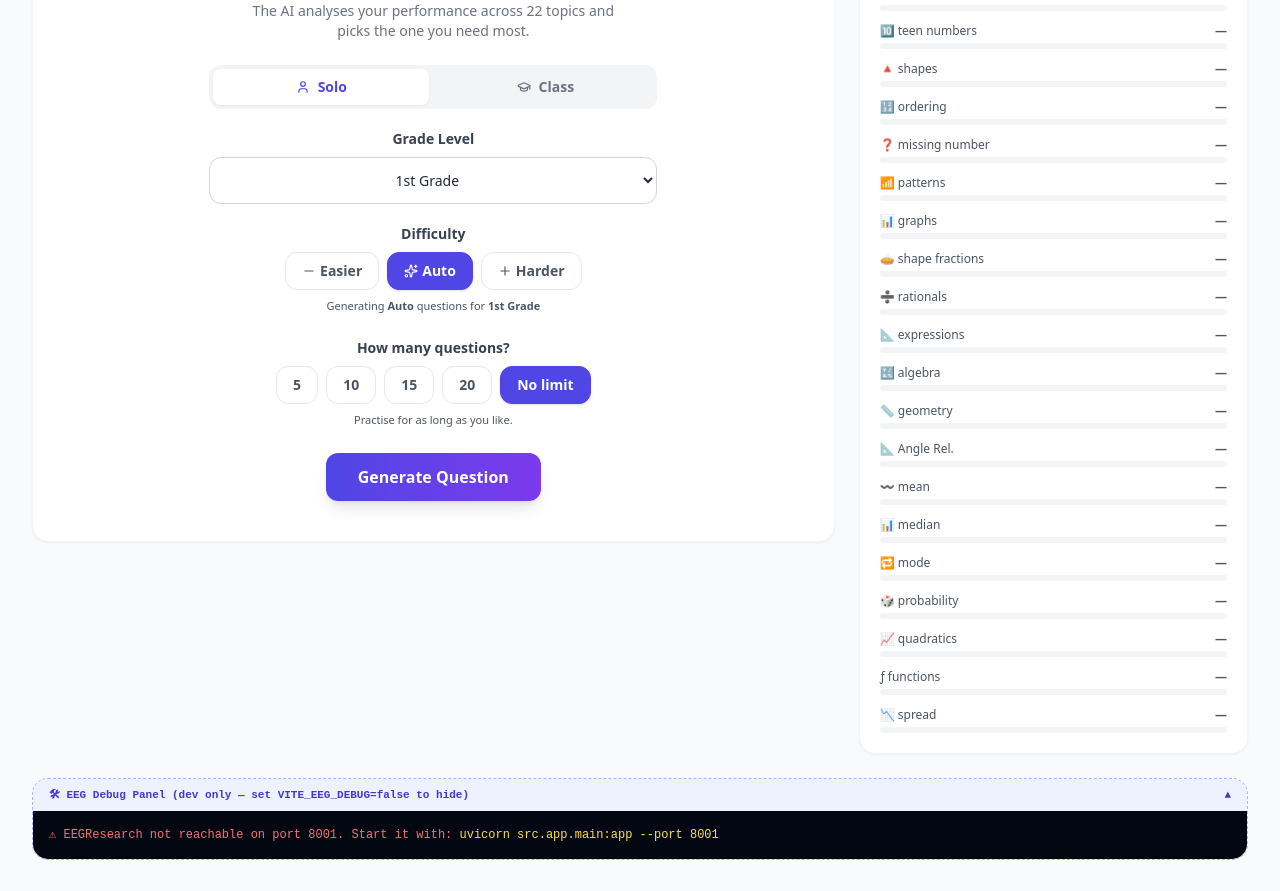
Test: claims nothing for the camera before the sidecar has answered
This screenshot has width=1280, height=891.
(page scrolled)
Click the button "Generate Question": (433, 476) [326,452,541,500]
(page scrolled)
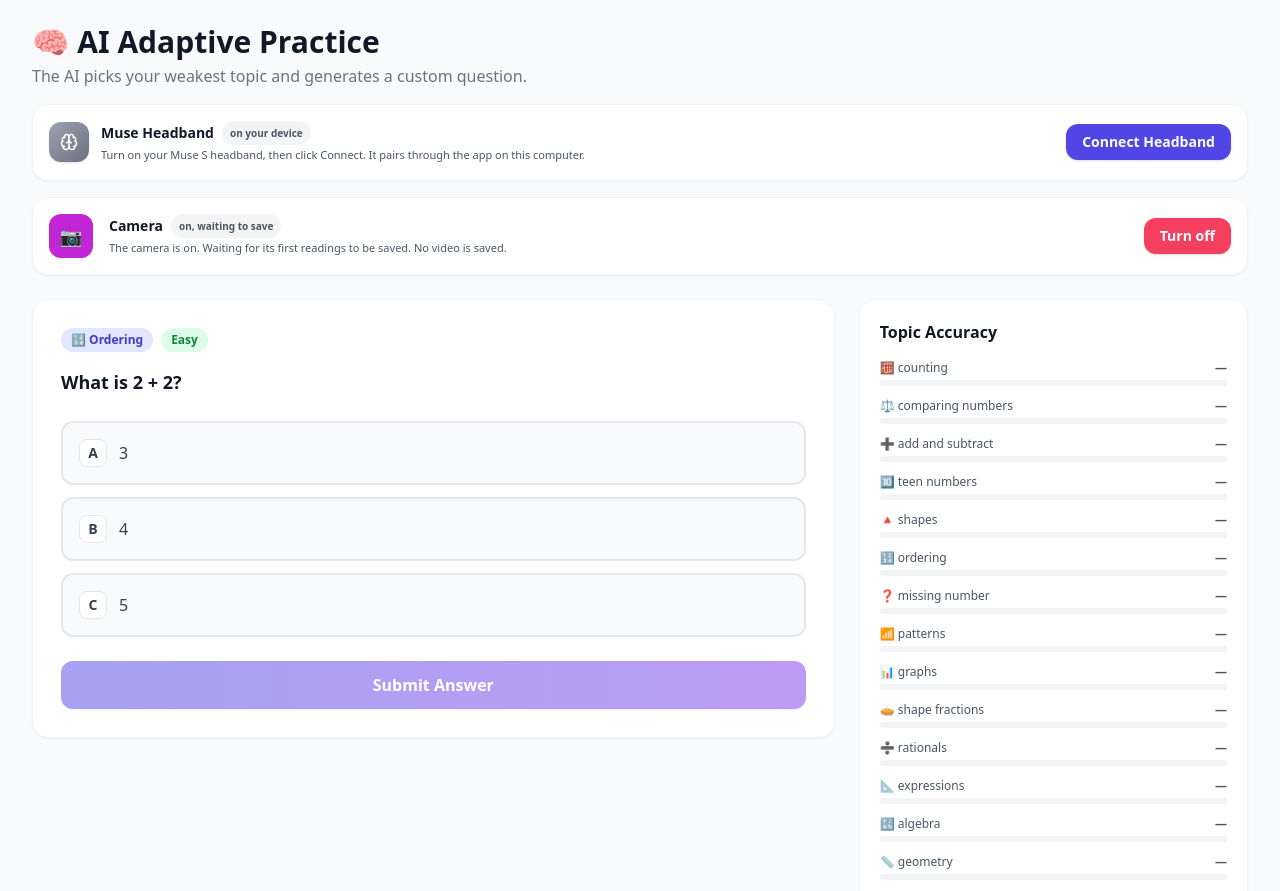
expect the text "What is 2 + 2?" is shown: met, box [61,370,182,394]
expect the text "on, waiting to save" is shown: met, box [171,214,281,238]
